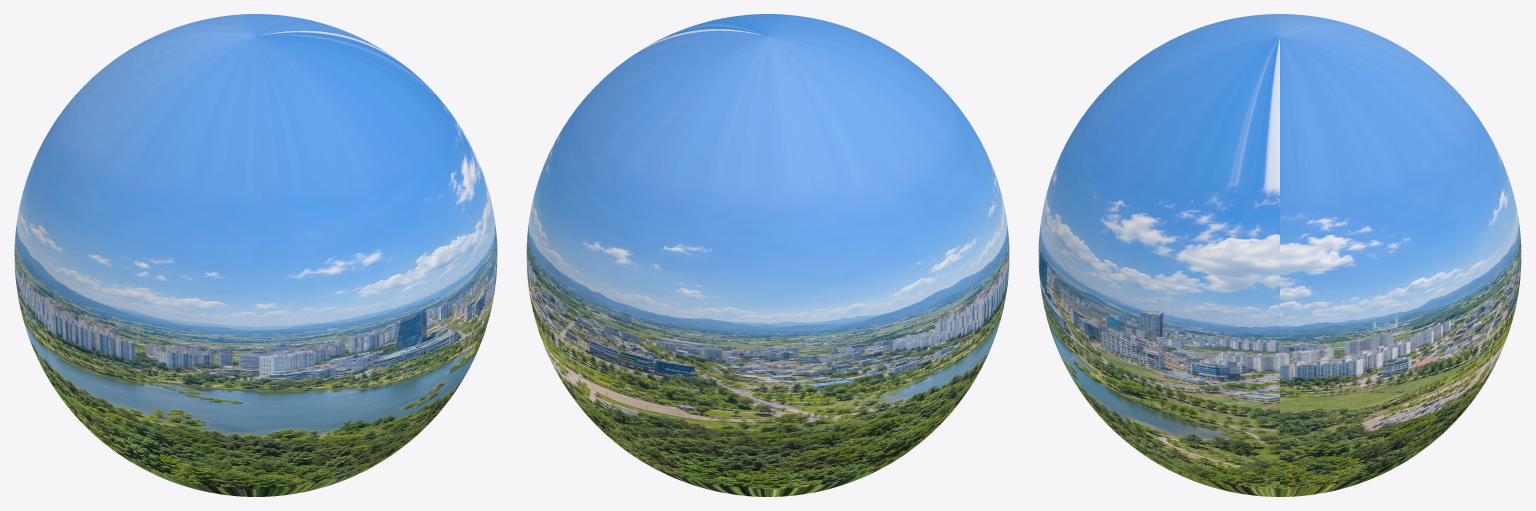
Rendered from bitgaram-observatory.glb.
3 views of the same model, side by side, from view 1: azimuth 30°, elevation 25°; view 2: azimuth 150°, elevation 25°; view 3: azimuth 270°, elevation 25° (orthographic).
Visible parts, largest first — view 1: photo_panorama; view 2: photo_panorama; view 3: photo_panorama.
Part boxes in pixels (box(x1,y1,x2,y2)): photo_panorama: box(14, 14, 497, 496); photo_panorama: box(526, 14, 1009, 496); photo_panorama: box(1038, 14, 1521, 496).
Bounding box in the file's own units: 1000 × 1000 × 1000.
21 materials, 1 textured.
